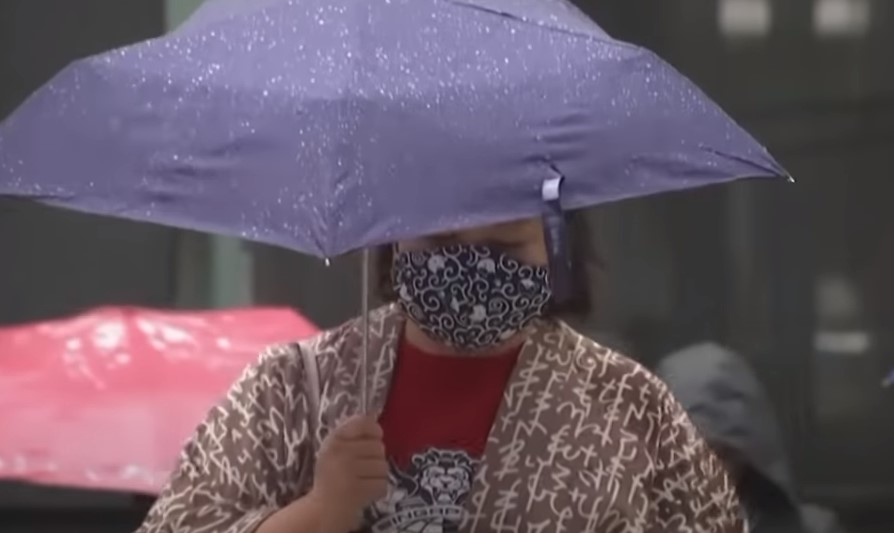face_with_mask: (390, 205, 554, 353)
